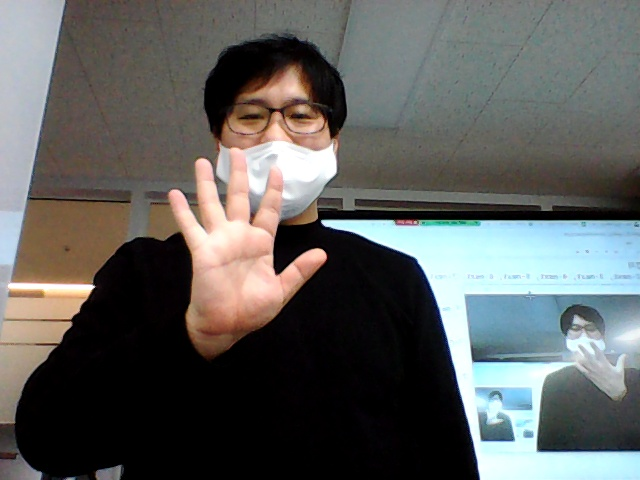five: (149, 143, 337, 347), (554, 328, 639, 407)
